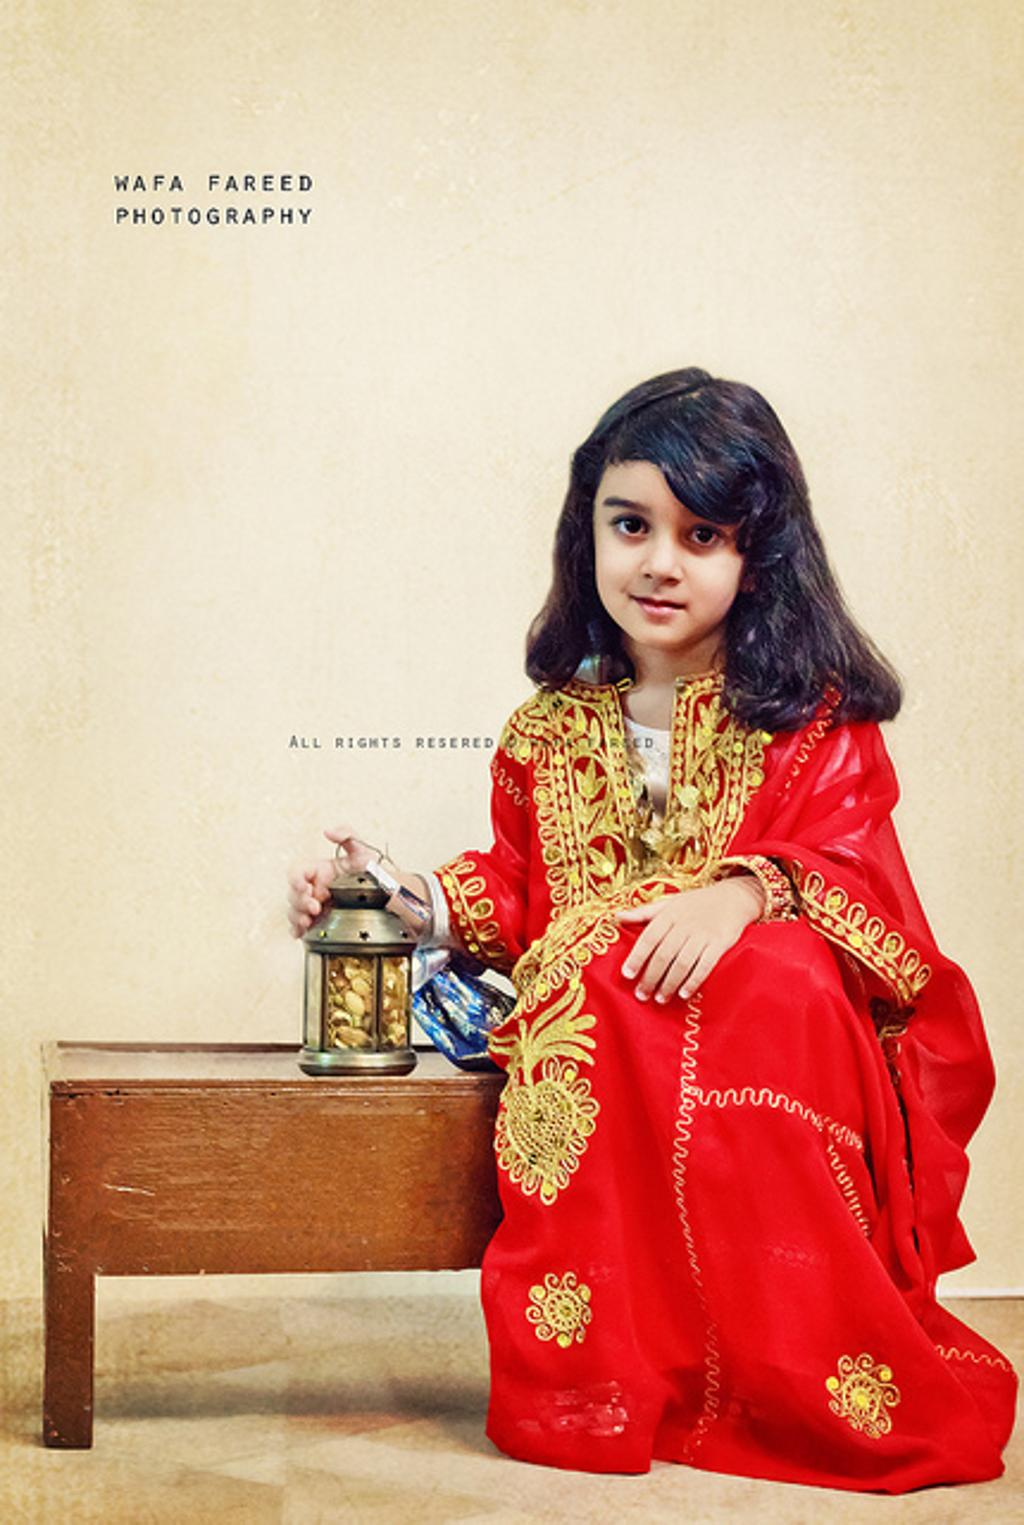face: (592, 464, 750, 646)
